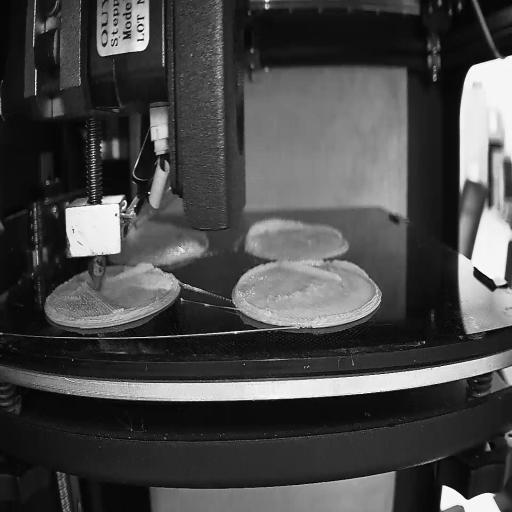over_extrusion: (233, 260, 279, 316), (242, 215, 303, 252), (282, 260, 368, 285), (104, 260, 154, 286)
